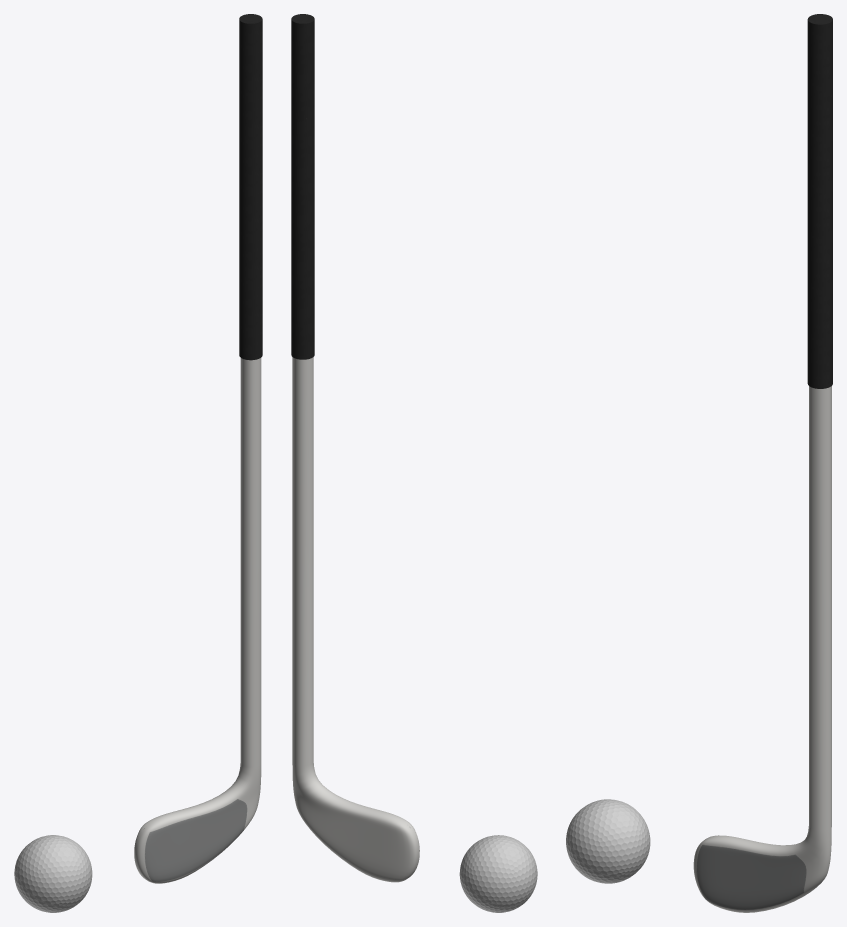
The model's file is golf_club_and_ball_obj.obj.
3 views of the same model, side by side, from view 1: azimuth 30°, elevation 25°; view 2: azimuth 150°, elevation 25°; view 3: azimuth 330°, elevation 25° (orthographic). The views are drawn at different scales.
Parts seen in each view (by area): view 1: golf_club.002_Cube.003, Icosphere; view 2: golf_club.002_Cube.003, Icosphere; view 3: golf_club.002_Cube.003, Icosphere.
Part boxes in pixels (<box>): golf_club.002_Cube.003: <box>134,14,262,883</box>; Icosphere: <box>14,835,92,912</box>; golf_club.002_Cube.003: <box>291,14,419,882</box>; Icosphere: <box>459,835,537,912</box>; golf_club.002_Cube.003: <box>693,14,832,912</box>; Icosphere: <box>566,799,650,883</box>.
Bounding box in the file's own units: 2.1 × 7.02 × 0.5865.
